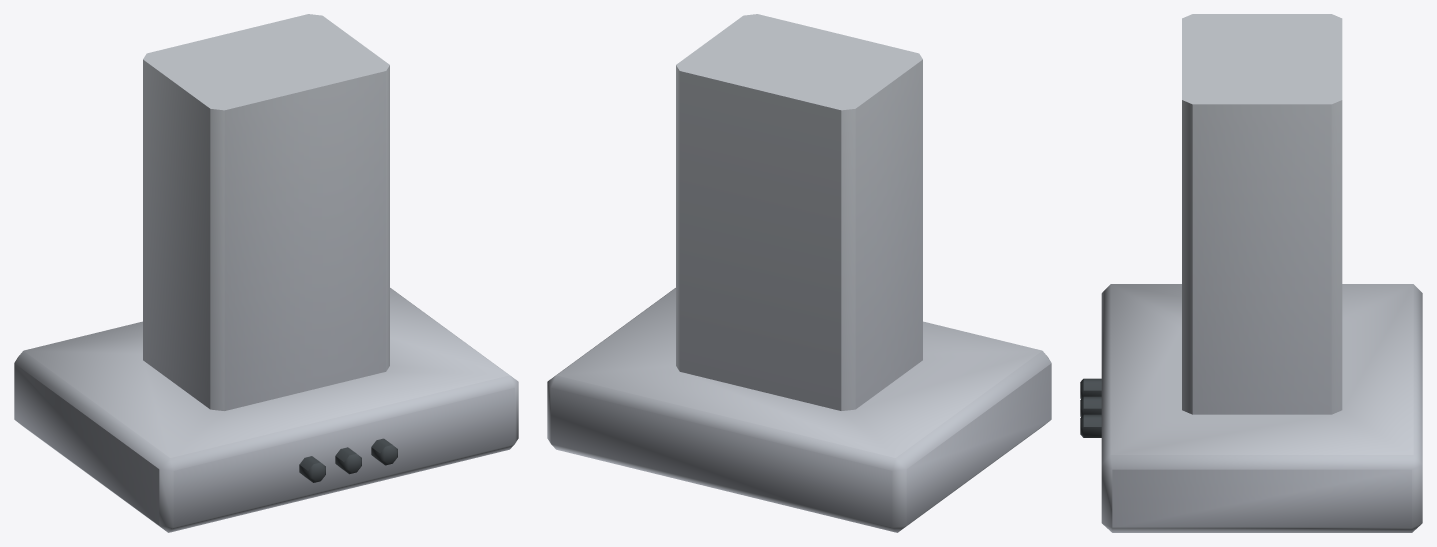
The model's file is Extractor Hood.glb.
The picture shows the model from 3 angles, left to right: view 1: azimuth 30°, elevation 25°; view 2: azimuth 150°, elevation 25°; view 3: azimuth 270°, elevation 25°; orthographic projection. The views are drawn at different scales.
Parts seen in each view (by area): view 1: extractor_hood; view 2: extractor_hood; view 3: extractor_hood.
Boxes of the visible parts, <box> form: extractor_hood: <box>14,14,518,532</box>; extractor_hood: <box>547,14,1051,532</box>; extractor_hood: <box>1080,14,1422,532</box>.
Bounding box in the file's own units: 2 × 2 × 1.6.
1 material, 1 textured.
